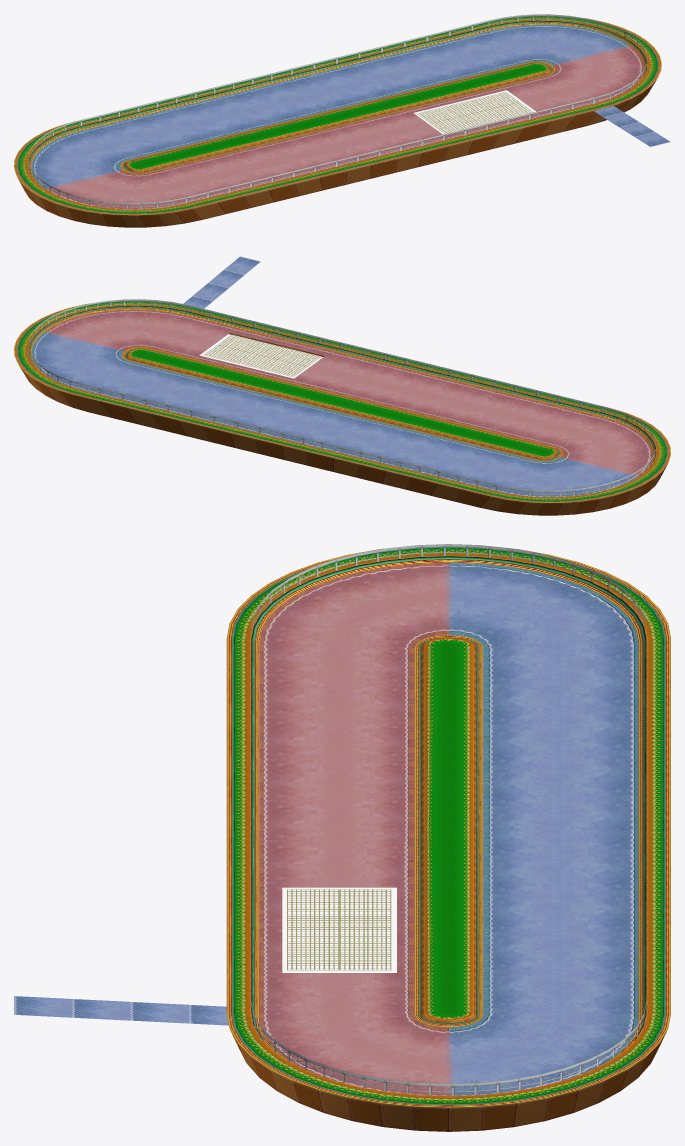
File: babypark only course.fbx
3 renders of one model, top to bottom at view 1: azimuth 30°, elevation 25°; view 2: azimuth 150°, elevation 25°; view 3: azimuth 270°, elevation 25°, orthographic. The views are drawn at different scales.
Visible parts, largest first — view 1: n15b5, n13b1, n16b12, n0b2; view 2: n15b5, n13b1, n16b12, n0b2; view 3: n15b5, n13b1, n16b12, n0b2.
Part boxes in pixels (x1,y1,x2,y2): n15b5: (14, 16, 661, 227); n13b1: (33, 26, 670, 182); n16b12: (56, 50, 641, 209); n0b2: (28, 14, 647, 209); n15b5: (14, 300, 670, 515); n13b1: (34, 256, 627, 496); n16b12: (52, 311, 650, 469); n0b2: (28, 299, 656, 496); n15b5: (226, 547, 670, 1131); n13b1: (14, 566, 633, 1095); n16b12: (263, 566, 442, 1095); n0b2: (251, 544, 646, 1095).
Bounding box in the file's own units: 30000 × 1061 × 14790.
